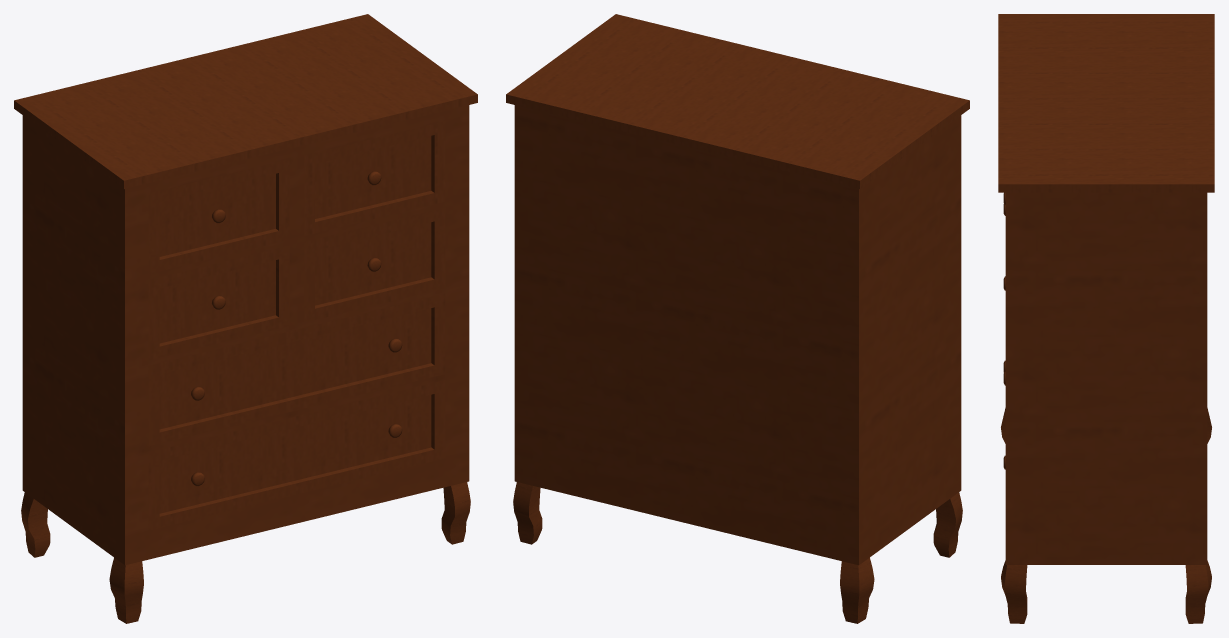
The model's file is Drawer33.fbx.
3 views of the same model, side by side, from view 1: azimuth 30°, elevation 25°; view 2: azimuth 150°, elevation 25°; view 3: azimuth 270°, elevation 25° (orthographic).
Visible parts, largest first — view 1: Drawer33_Body, Drawer33_5, Drawer33_6, Drawer33_3, Drawer33_1, Drawer33_2, Drawer33_4; view 2: Drawer33_Body; view 3: Drawer33_Body.
Part boxes in pixels (x1,y1,x2,y2): Drawer33_Body: (14,14,477,623); Drawer33_5: (148,293,445,446); Drawer33_6: (148,380,445,530); Drawer33_3: (148,245,289,360); Drawer33_1: (148,159,289,273); Drawer33_2: (304,121,445,235); Drawer33_4: (304,207,445,322); Drawer33_Body: (506,14,969,623); Drawer33_Body: (998,14,1214,623).
Bounding box in the file's own units: 100 × 122 × 53.91.
